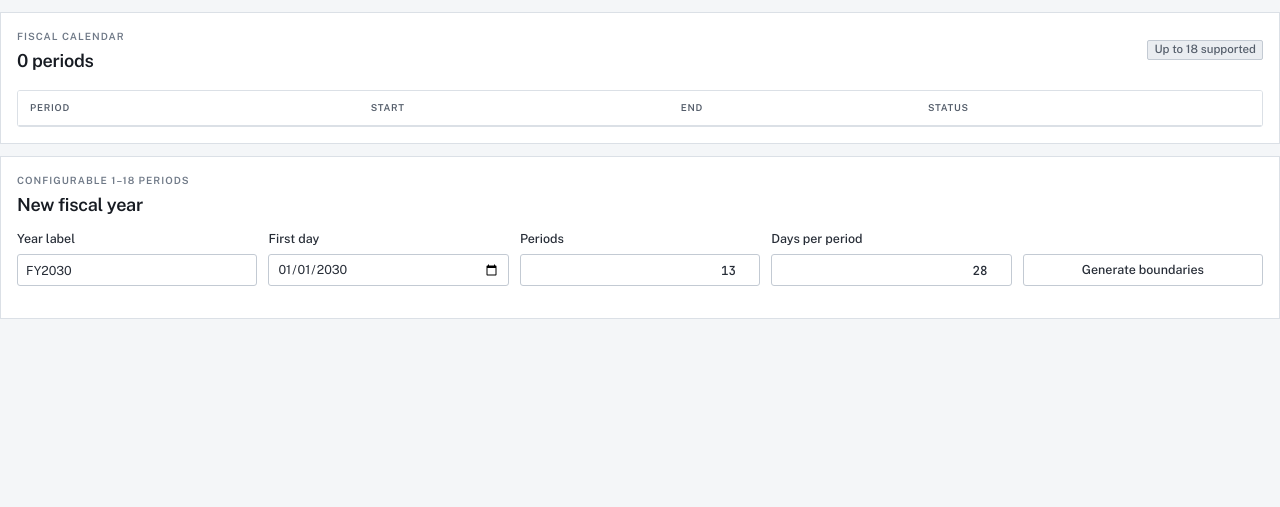
Scenario: management workflows › starts after the latest year and announces fiscal save errors
Expected: the date field labelled "First day" holds "2030-01-01", [277,260,500,281]
Replace the text in the number field labelled "Periods" with "0" at [640, 270], box [529,262,751,279]
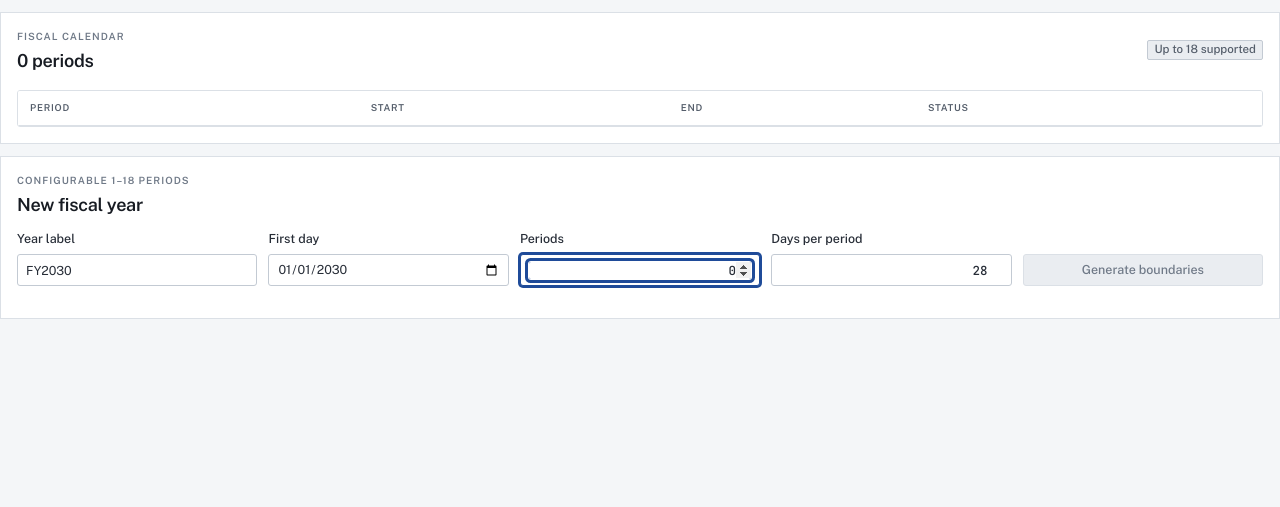
Expected: the button "Generate boundaries" is disabled, [1023,254,1263,286]
Replace the text in the number field labelled "Periods" with "1" at [640, 270], box [529,262,751,279]
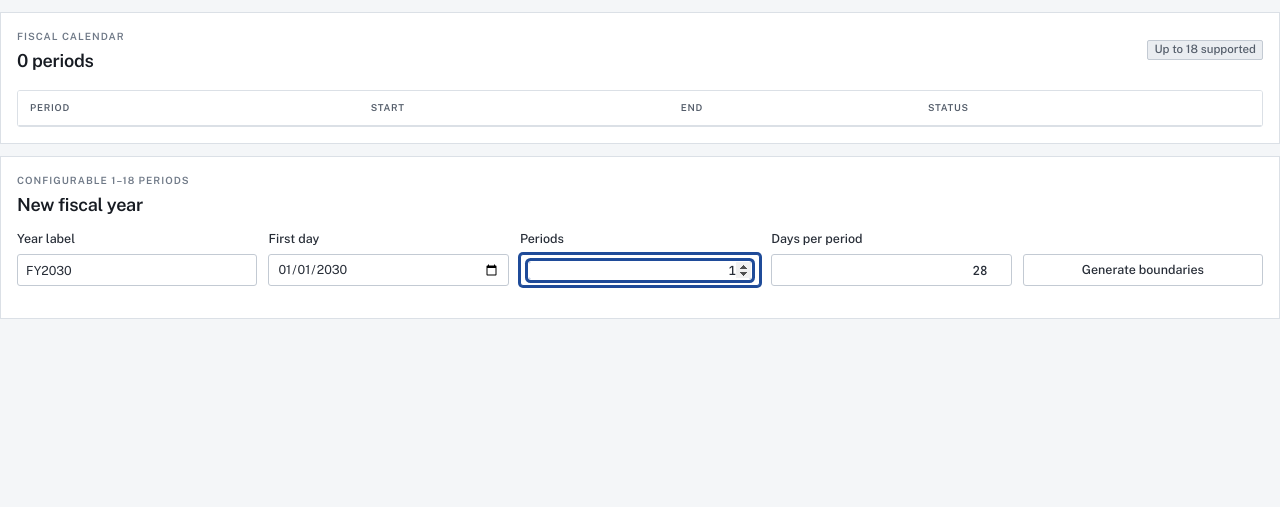
Click the button "Generate boundaries".
click(1143, 270)  # box [1023,254,1263,286]
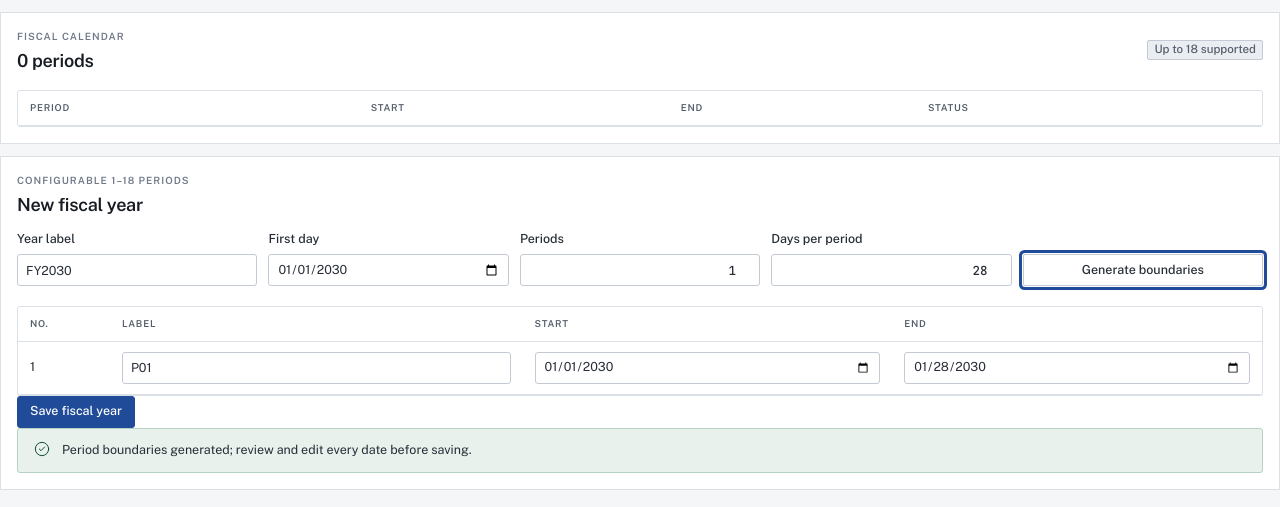
Replace the text in the field named "Label for period 1" with "OPEN" at [316, 368], box [131,360,502,375]
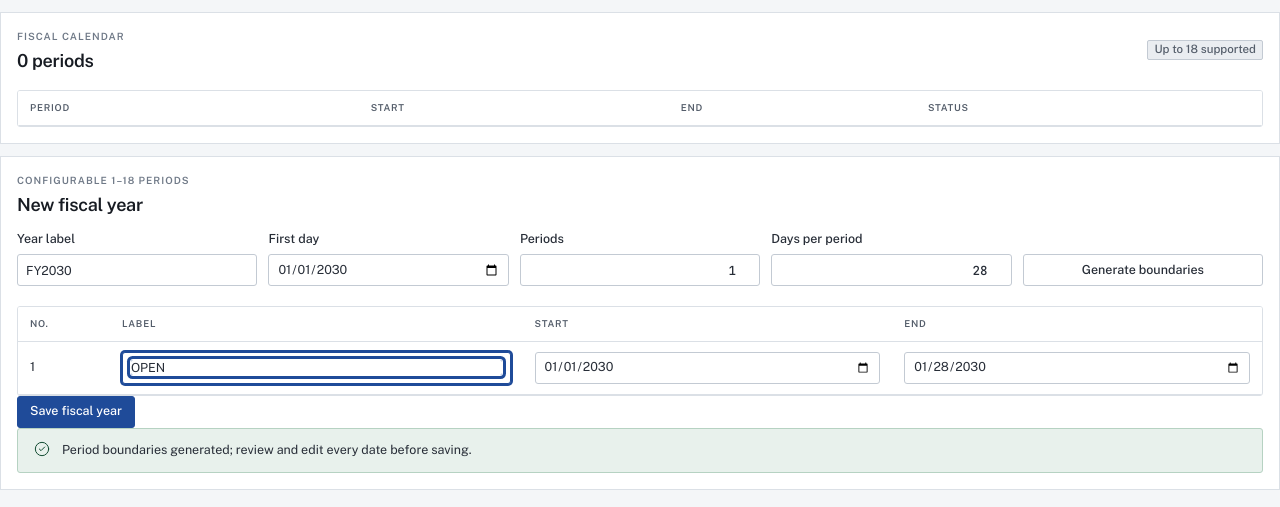
Click the button "Save fiscal year".
click(76, 412)  # box [17,396,135,428]
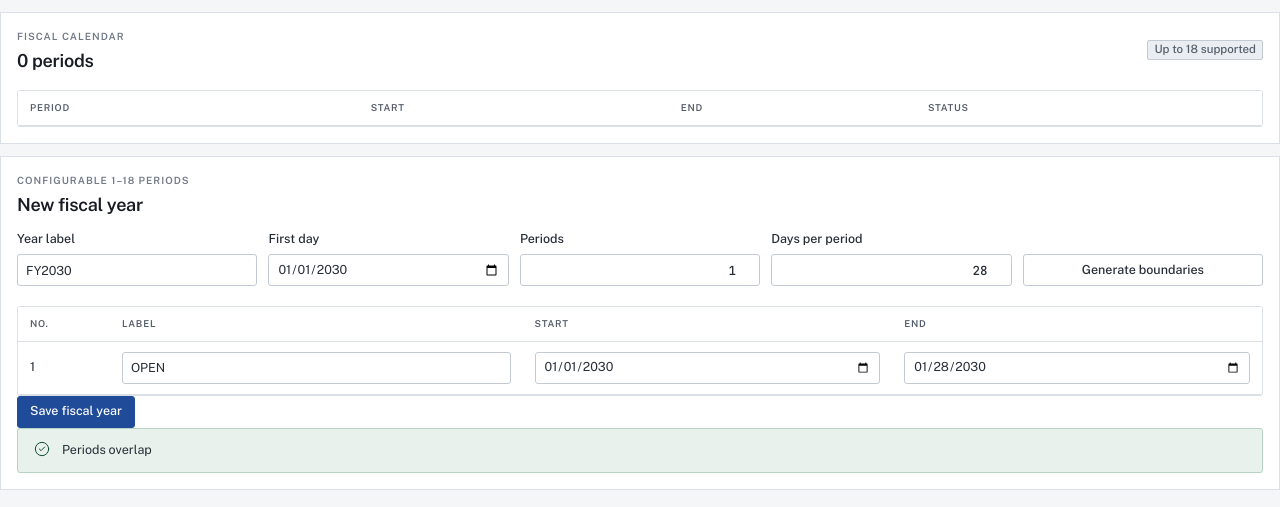
Expected: the button "Save fiscal year" is enabled, [17,396,135,428]
Expected: the message reads "Periods overlap", [62,442,152,457]
